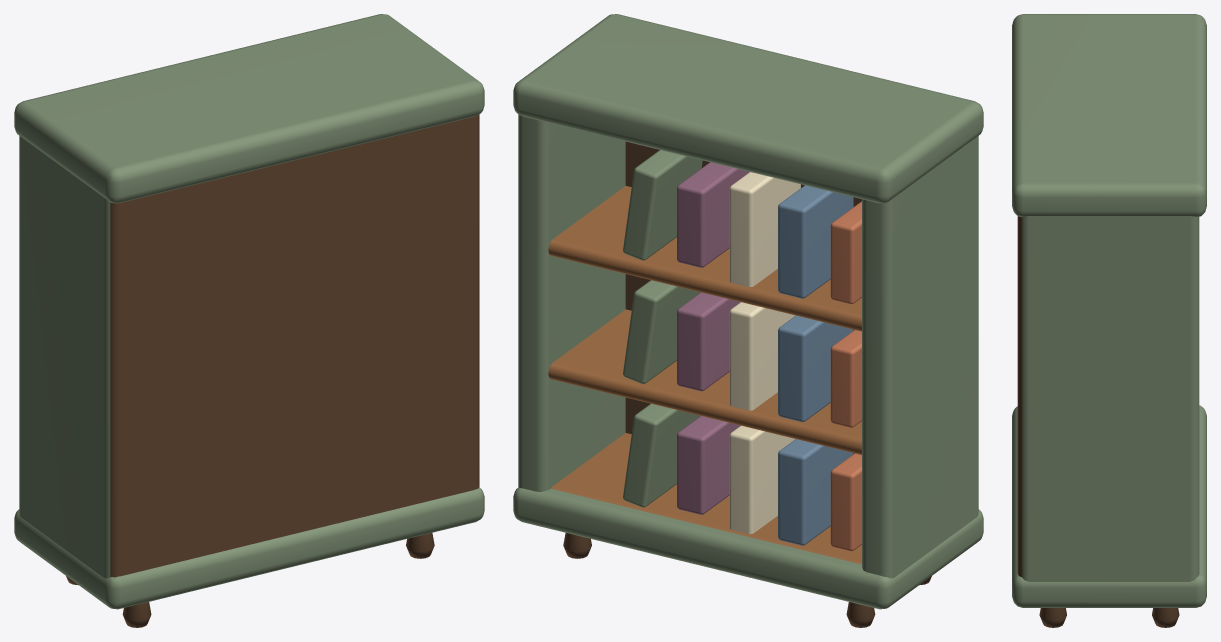
File: bookcase.glb
3 renders of one model, left to right at view 1: azimuth 30°, elevation 25°; view 2: azimuth 150°, elevation 25°; view 3: azimuth 270°, elevation 25°, orthographic. The views are drawn at different scales.
Parts seen in each view (by area): view 1: House_bookcase; view 2: House_bookcase; view 3: House_bookcase.
Boxes of the visible parts, <box> form: House_bookcase: <box>14,14,484,627</box>; House_bookcase: <box>513,14,983,627</box>; House_bookcase: <box>1012,14,1206,627</box>.
Bounding box in the file's own units: 1.12 × 1.35 × 0.52.
